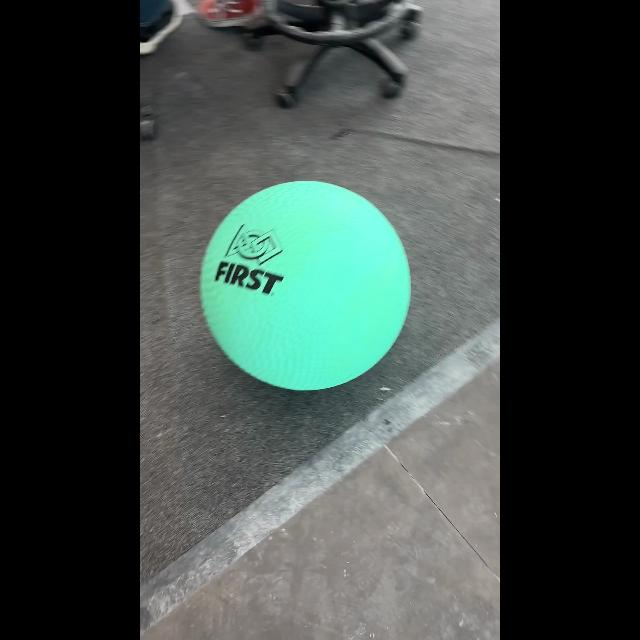ALGAE: (198, 179, 412, 391)
